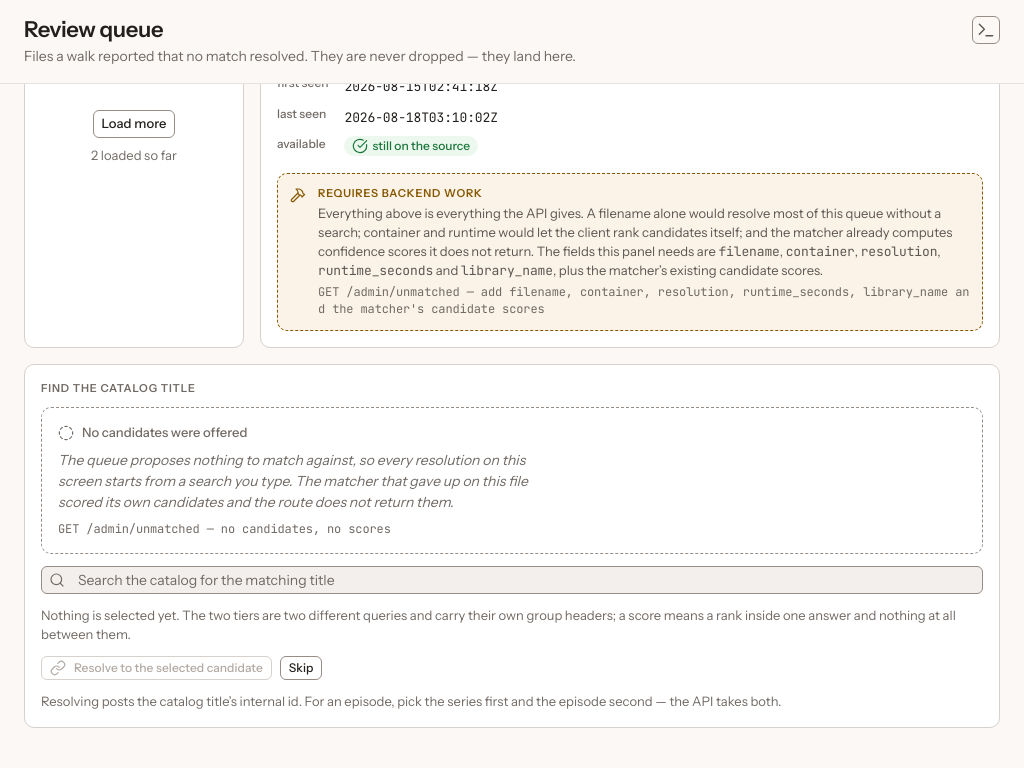
Test: Review › candidate search › labels the two suggest tiers as two queries, not a fallback chain
The width and height of the screenshot is (1024, 768).
(page scrolled)
In the dropdown: point(512, 580) x1=41 y1=566 x2=983 y2=594, type "stal"
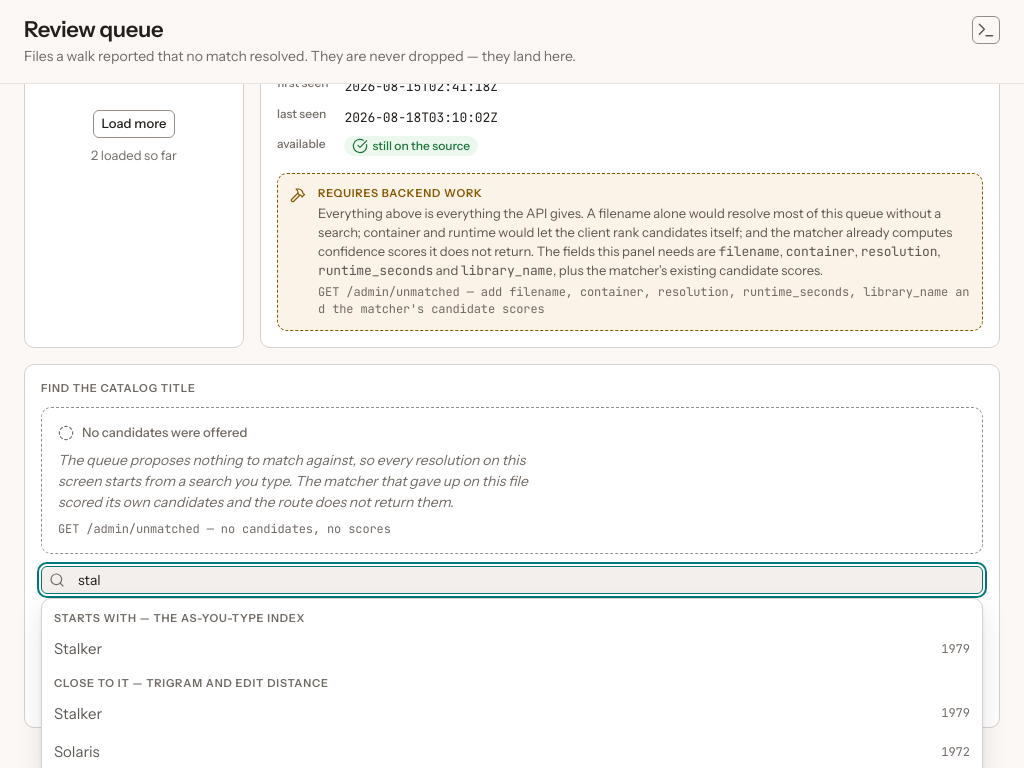
expect the text "Starts with — the as-you-type index" is shown: met, box x1=54 y1=612 x2=305 y2=626
expect the text "Close to it — trigram and edit distance" is shown: met, box x1=54 y1=676 x2=329 y2=690
